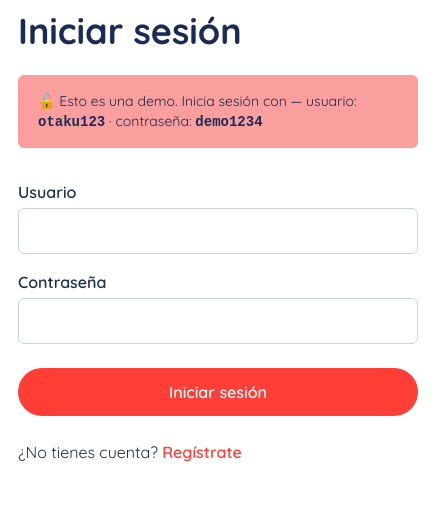
Test: LoginPage › shows a Spanish error on invalid login
In the field labelled "Usuario": (218, 231) [18,208,418,254], type "otaku123"
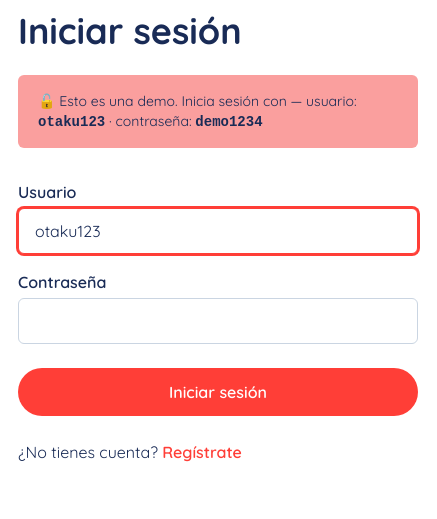
In the password field labelled "Contraseña": (218, 321) [18,298,418,344], type "wrongpass"
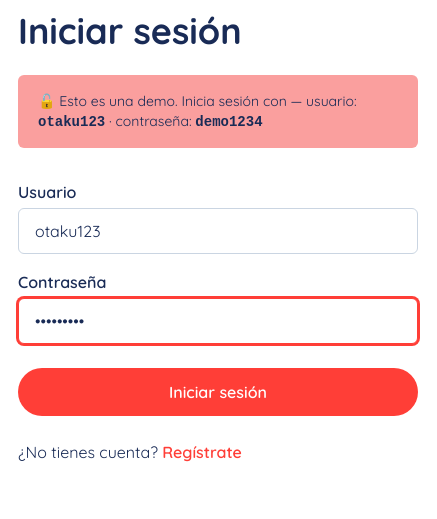
Click the button "Iniciar sesión": (218, 392) [18,368,418,416]
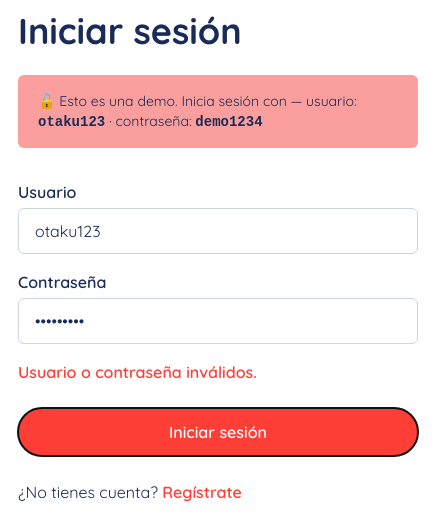
Check: the text "Usuario o contraseña inválidos." is shown, box [18,362,257,382]
